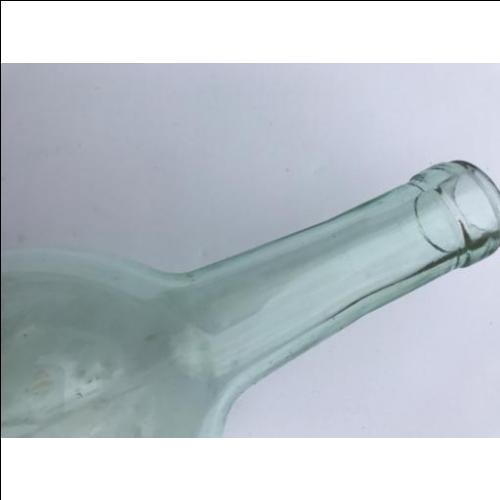glass: (3, 161, 500, 437)
